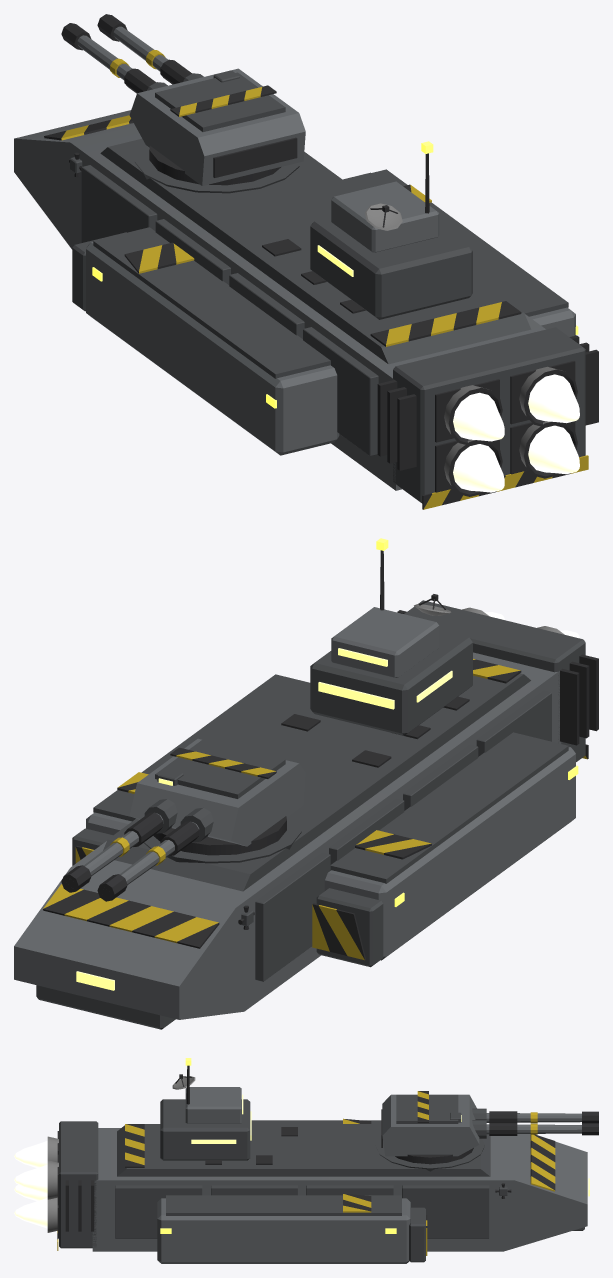
Rendered from syndicate_gunship.glb.
The picture shows the model from 3 angles, top to bottom: view 1: azimuth 30°, elevation 25°; view 2: azimuth 150°, elevation 25°; view 3: azimuth 270°, elevation 25°; orthographic projection. The views are drawn at different scales.
Visible parts, largest first — view 1: syn_hull, syn_turret, engine_glow; view 2: syn_hull, syn_turret; view 3: syn_hull, syn_turret, engine_glow.
Part boxes in pixels (box(x1,y1,x2,y2)): syn_hull: box(14, 110, 598, 509); syn_turret: box(61, 14, 305, 185); engine_glow: box(453, 374, 579, 492); syn_hull: box(14, 538, 598, 1029); syn_turret: box(61, 738, 305, 901); syn_hull: box(47, 1058, 589, 1263); syn_turret: box(381, 1091, 598, 1164); engine_glow: box(14, 1141, 47, 1228).
Bounding box in the file's own units: 8.08 × 6.8 × 20.8.
